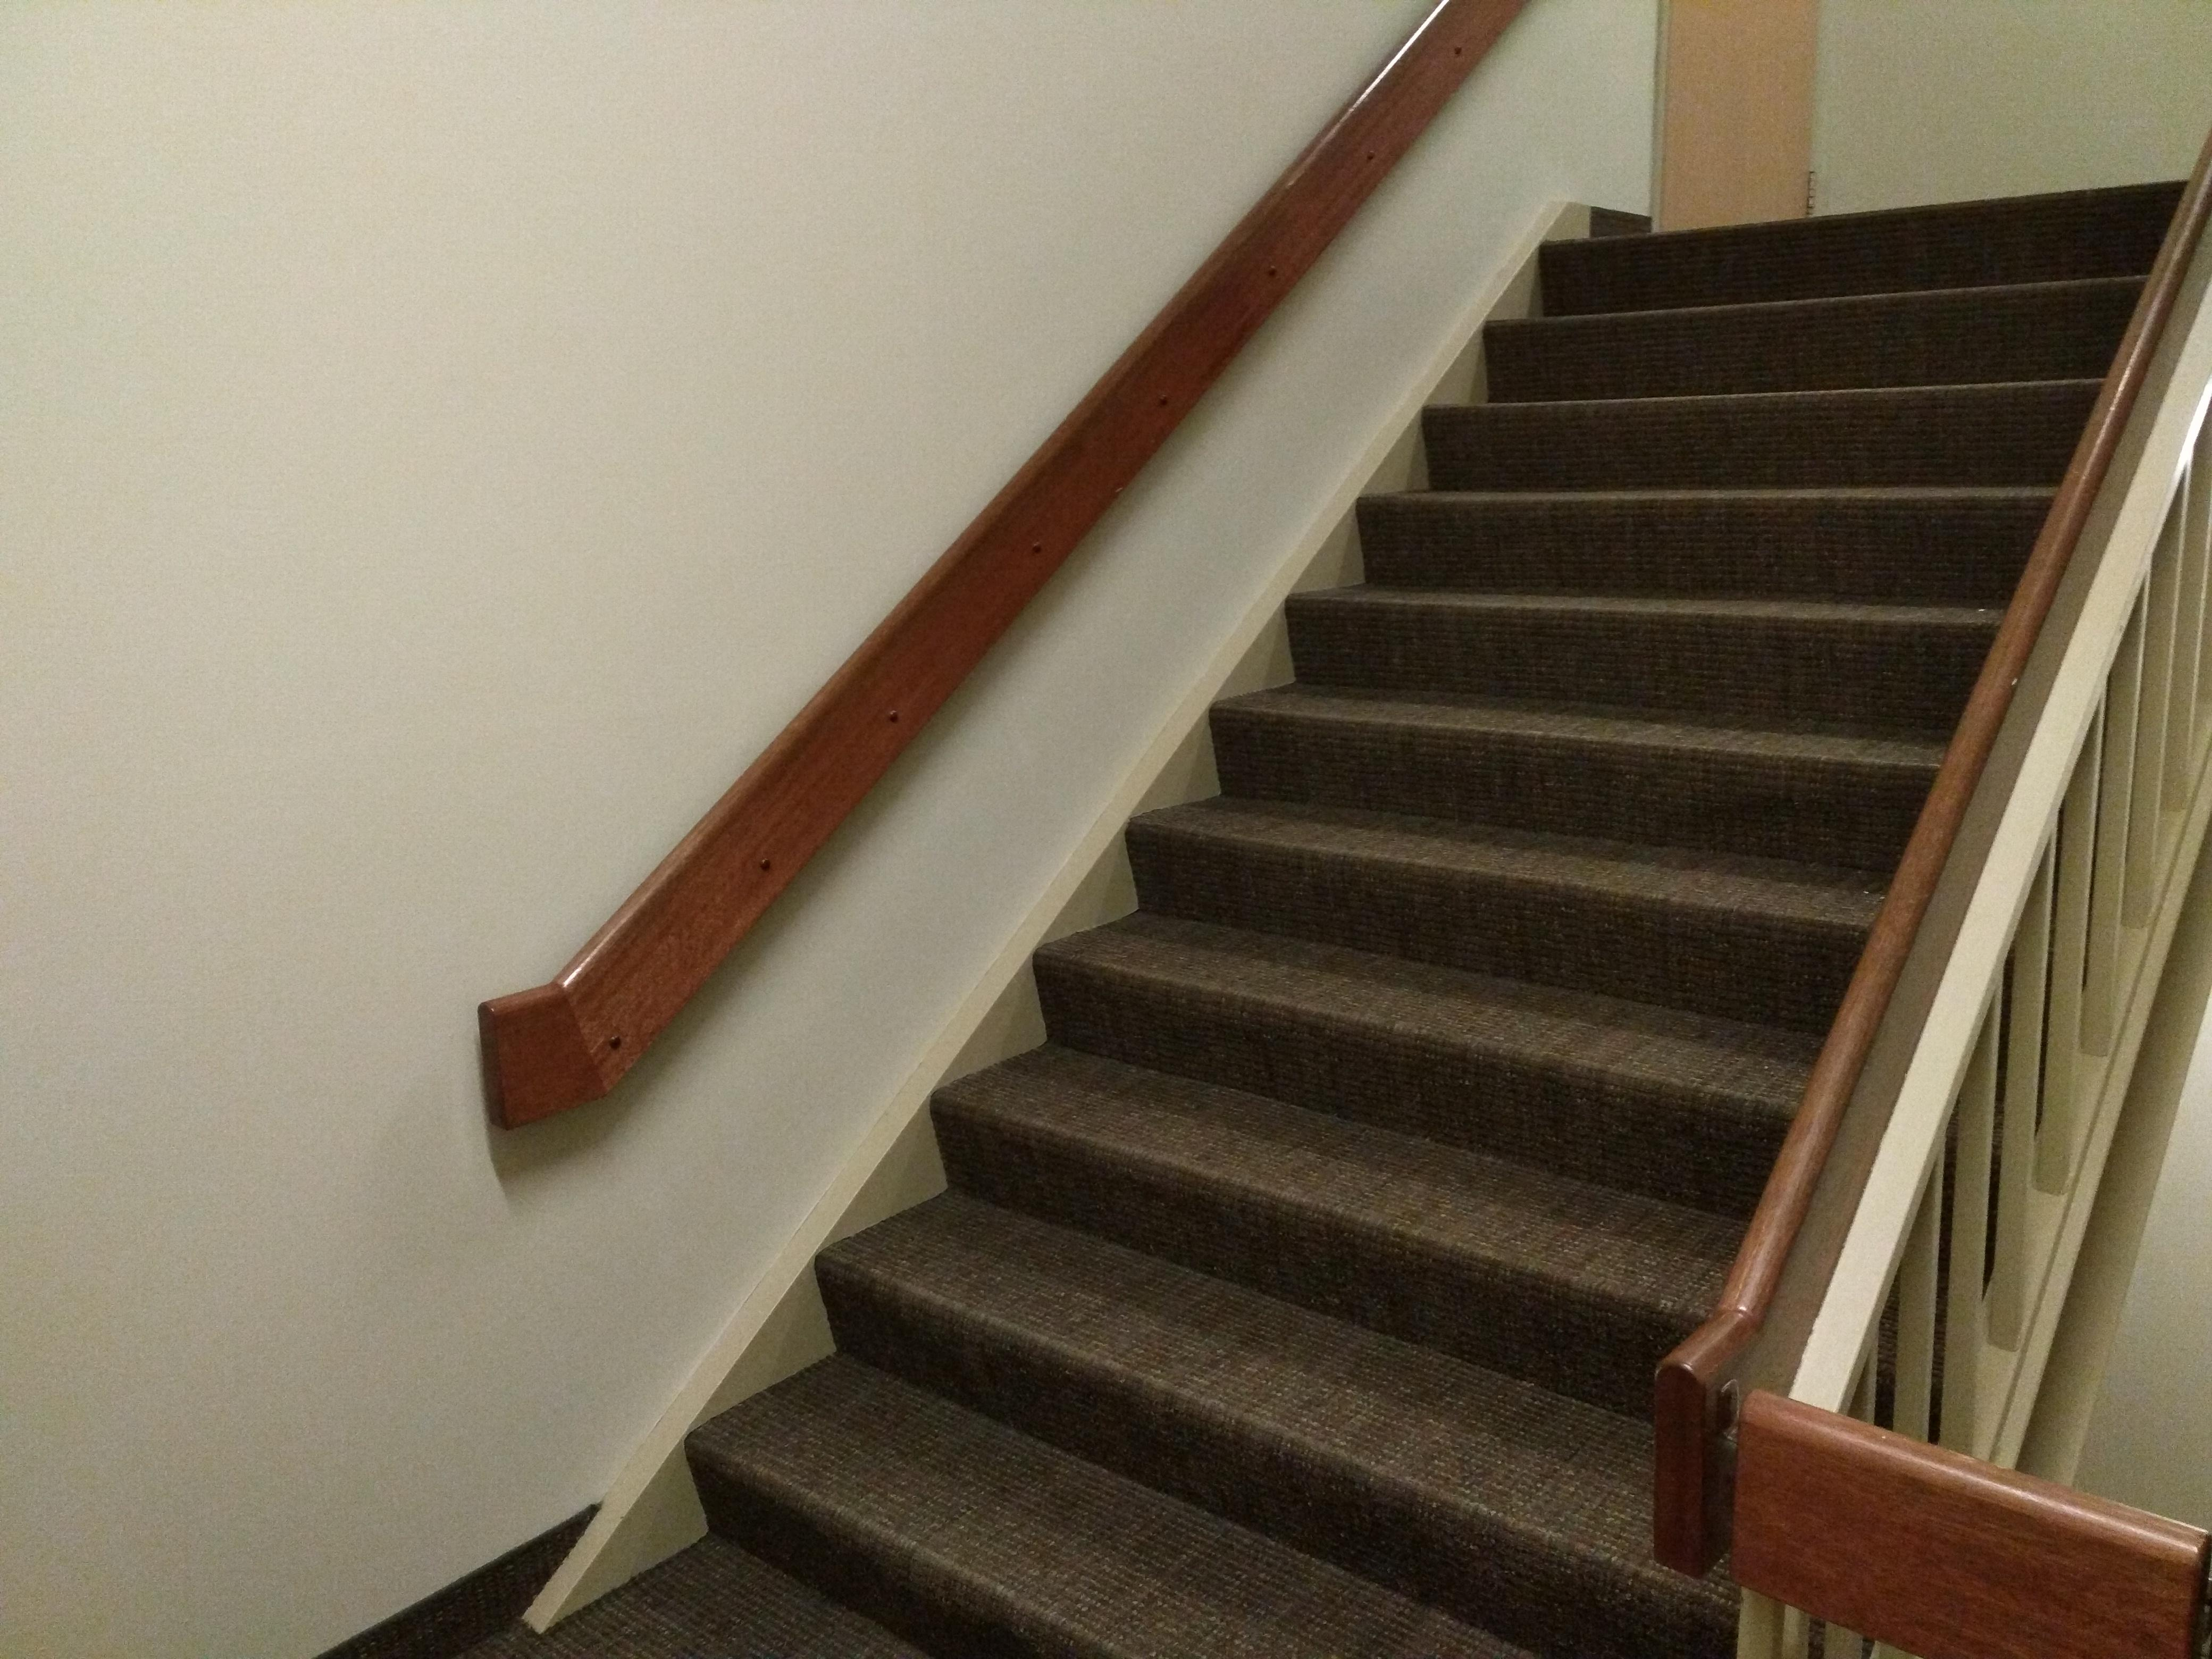stairs_up: (641, 162, 2203, 1638)
